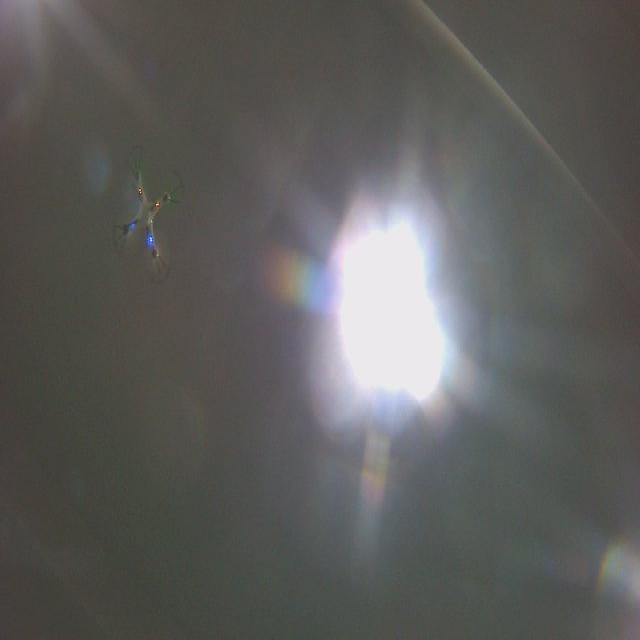drone: (111, 142, 186, 284)
